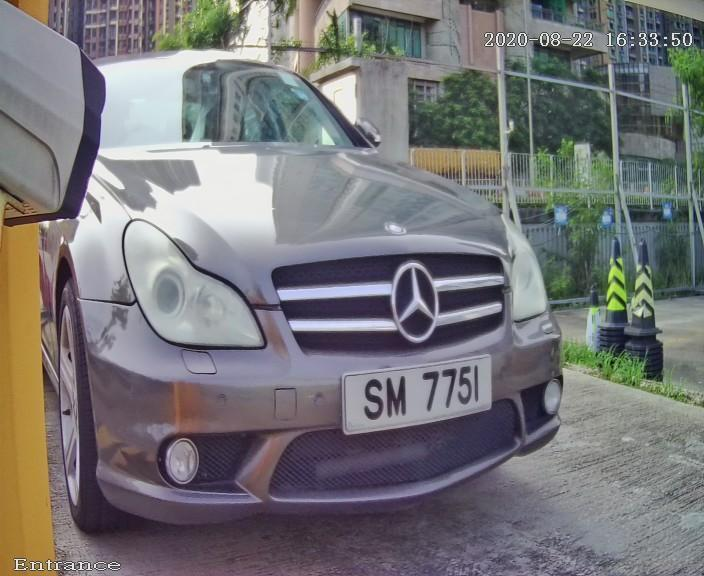Car: (16, 16, 607, 553)
License Plate: (319, 342, 508, 459)
